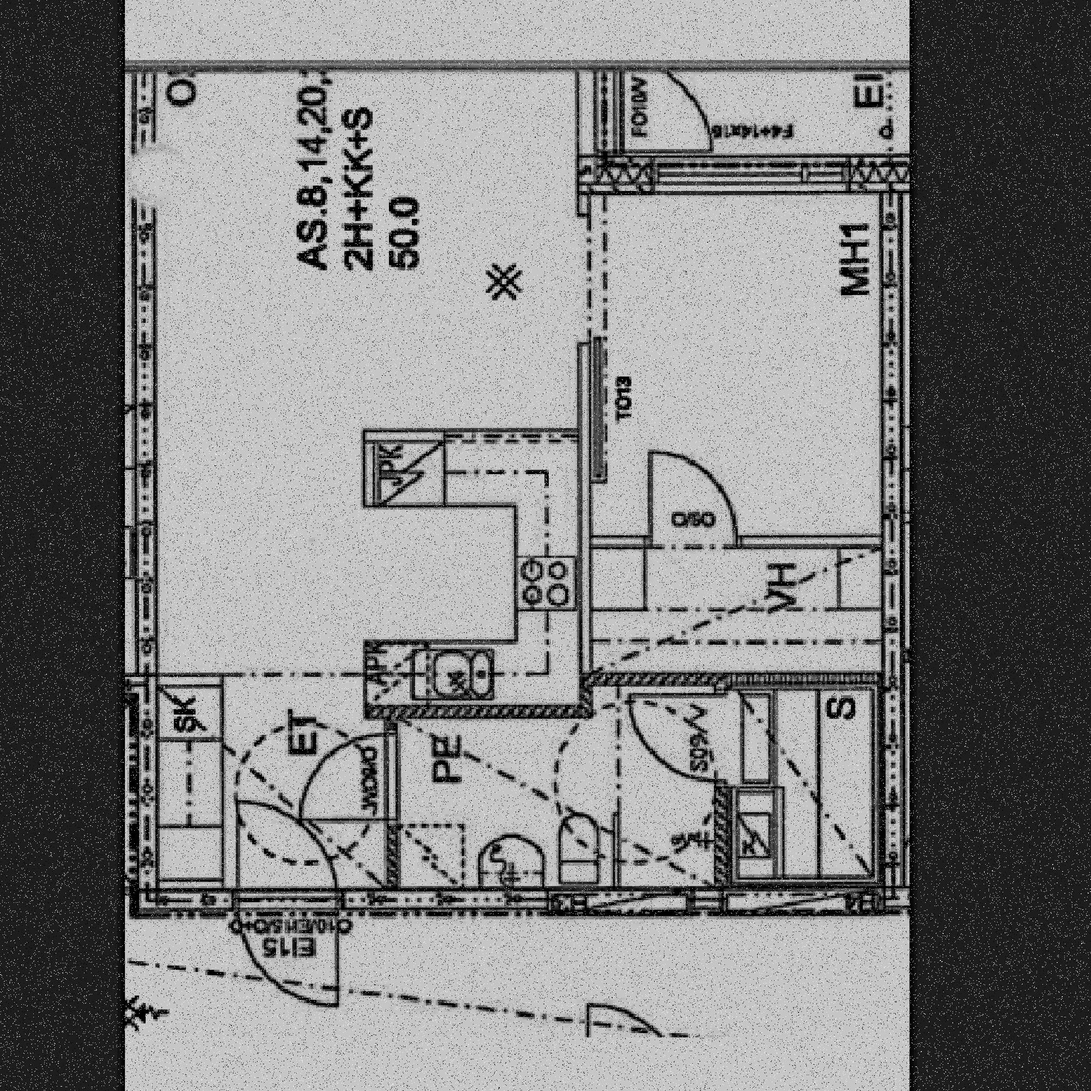wall: (135, 0, 158, 916), (135, 893, 903, 916), (881, 154, 903, 916), (577, 154, 903, 193), (576, 0, 615, 193), (576, 193, 589, 720), (590, 674, 881, 687), (590, 535, 881, 548), (882, 0, 903, 154), (715, 687, 728, 893), (399, 707, 590, 720), (387, 707, 400, 892), (365, 429, 378, 506), (365, 429, 443, 441), (158, 674, 224, 687), (365, 707, 399, 720)
